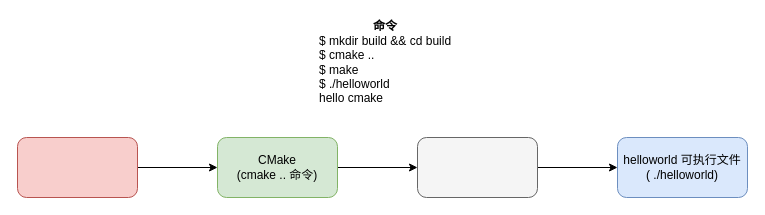
Some shapes in this 765 by 215 pixel diagram are drawn without their labels. Each missing label, with the box of its shape:
CMake项目: (16, 136, 138, 198)
Makefile项目结构 (make 命令): (416, 136, 538, 198)
